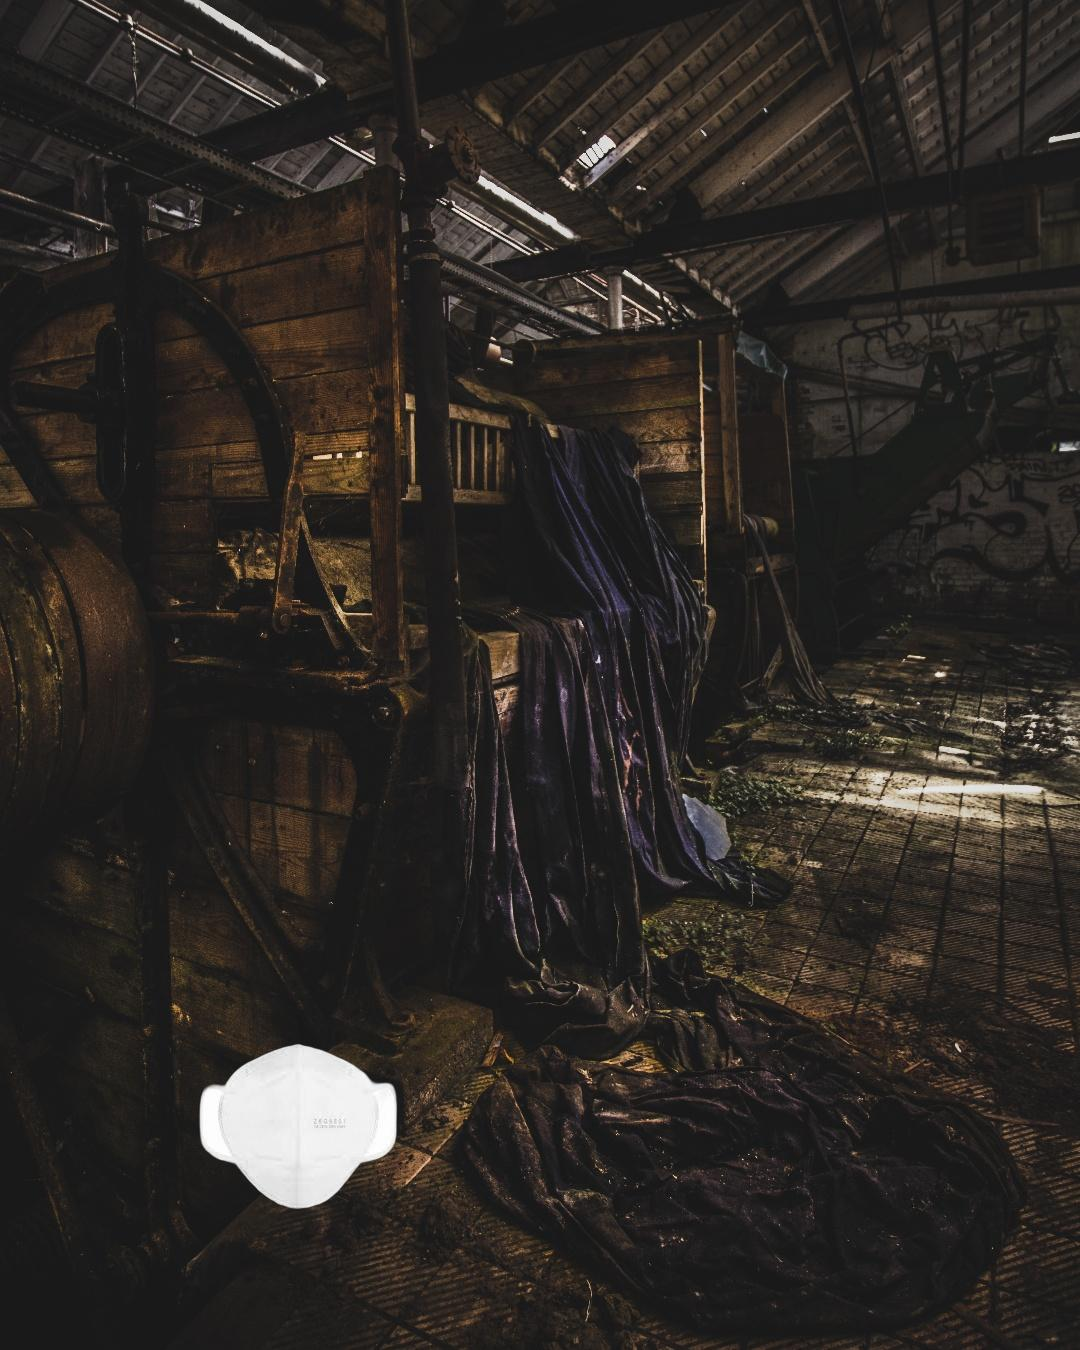trash: (196, 1041, 401, 1212)
